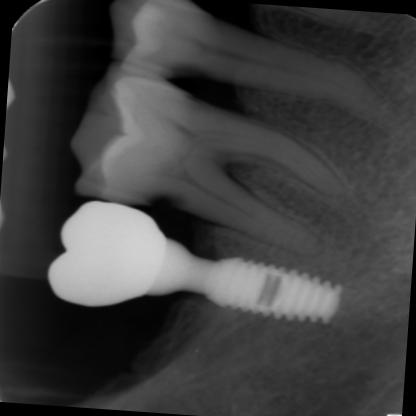Bicon: (191, 246, 361, 336)
